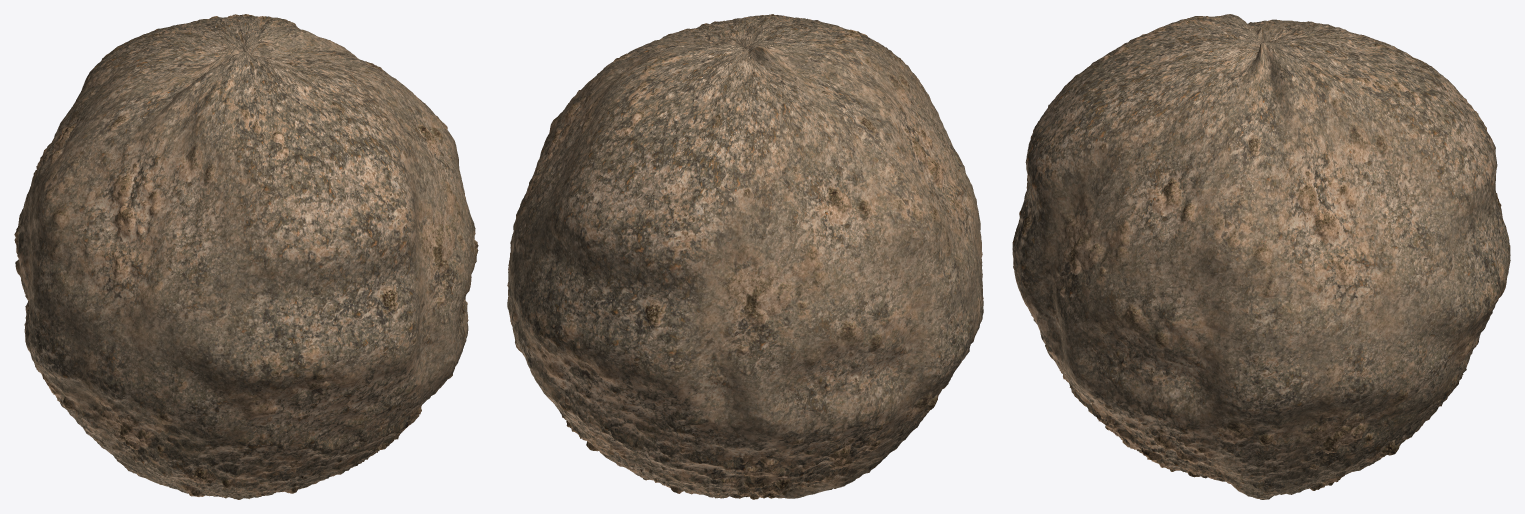
Rendered from rock_04_1k.gltf.
3 renders of one model, left to right at view 1: azimuth 30°, elevation 25°; view 2: azimuth 150°, elevation 25°; view 3: azimuth 270°, elevation 25°, orthographic.
Parts seen in each view (by area): view 1: sphere_gltf; view 2: sphere_gltf; view 3: sphere_gltf.
Boxes of the visible parts, x1,y1,x2,y2 form: sphere_gltf: (14,14,478,499); sphere_gltf: (507,14,983,499); sphere_gltf: (1012,14,1510,499).
Size of the model in its own units: 1.51 by 1.54 by 1.55.
Materials: 1 (1 with a texture image).
